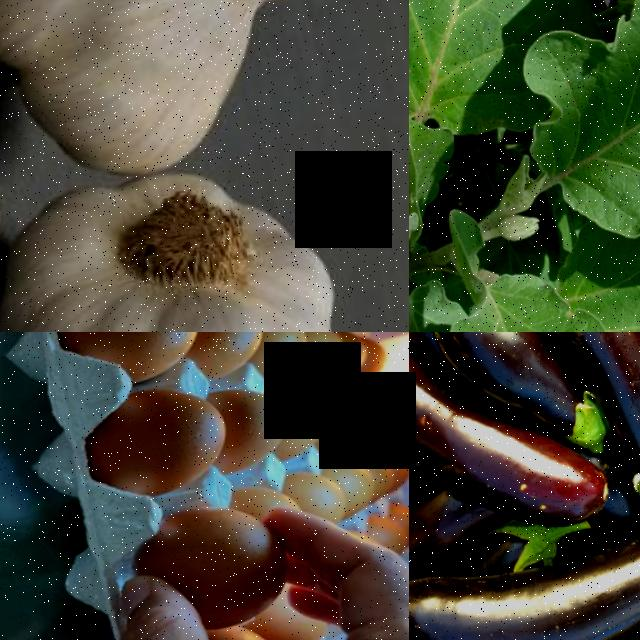egg_: (131, 494, 295, 640), (78, 382, 235, 505), (52, 332, 208, 392), (214, 386, 287, 476), (180, 332, 267, 389), (271, 385, 327, 464), (249, 332, 309, 386)
eggplant: (409, 391, 607, 552), (409, 518, 640, 640), (414, 332, 555, 417), (578, 332, 640, 523)
garlic: (0, 148, 362, 332), (0, 0, 292, 194)
